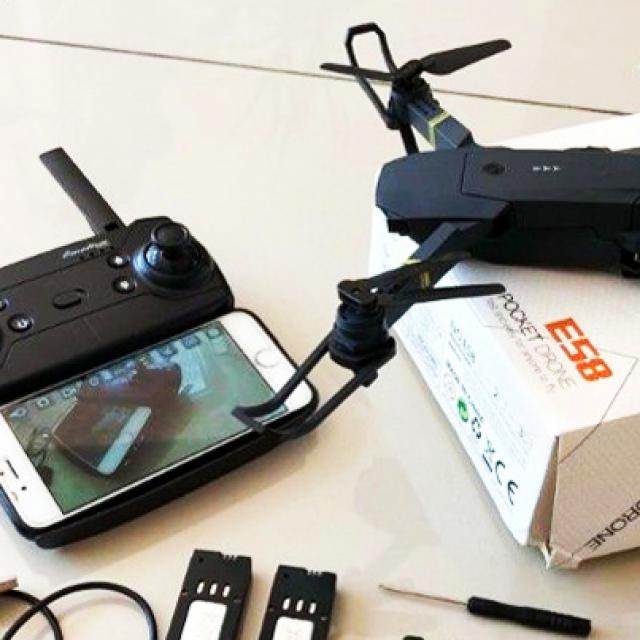drone: (255, 18, 640, 506)
